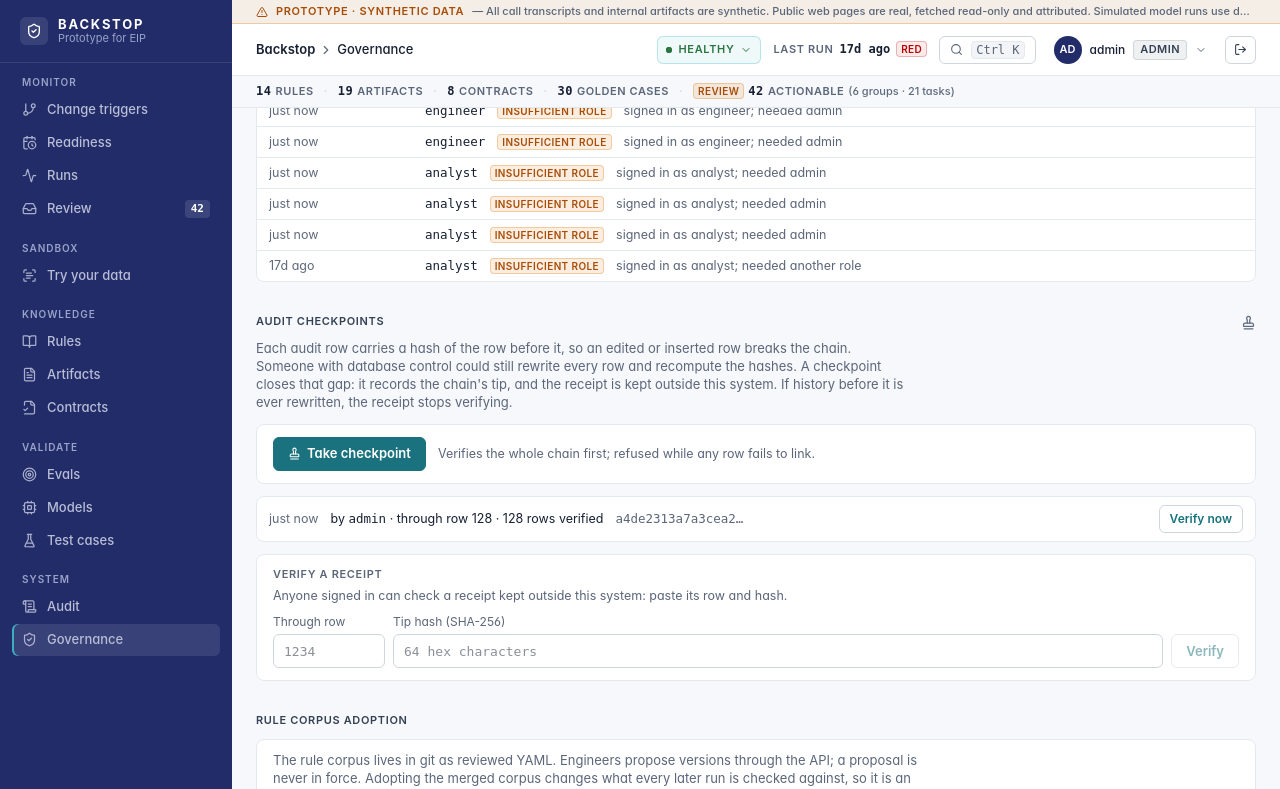
Test: governance (admin) › lets an admin review access and take a checkpoint
(page scrolled)
Click the button "Take checkpoint" at (349, 454), box 273,437 -> 426,471
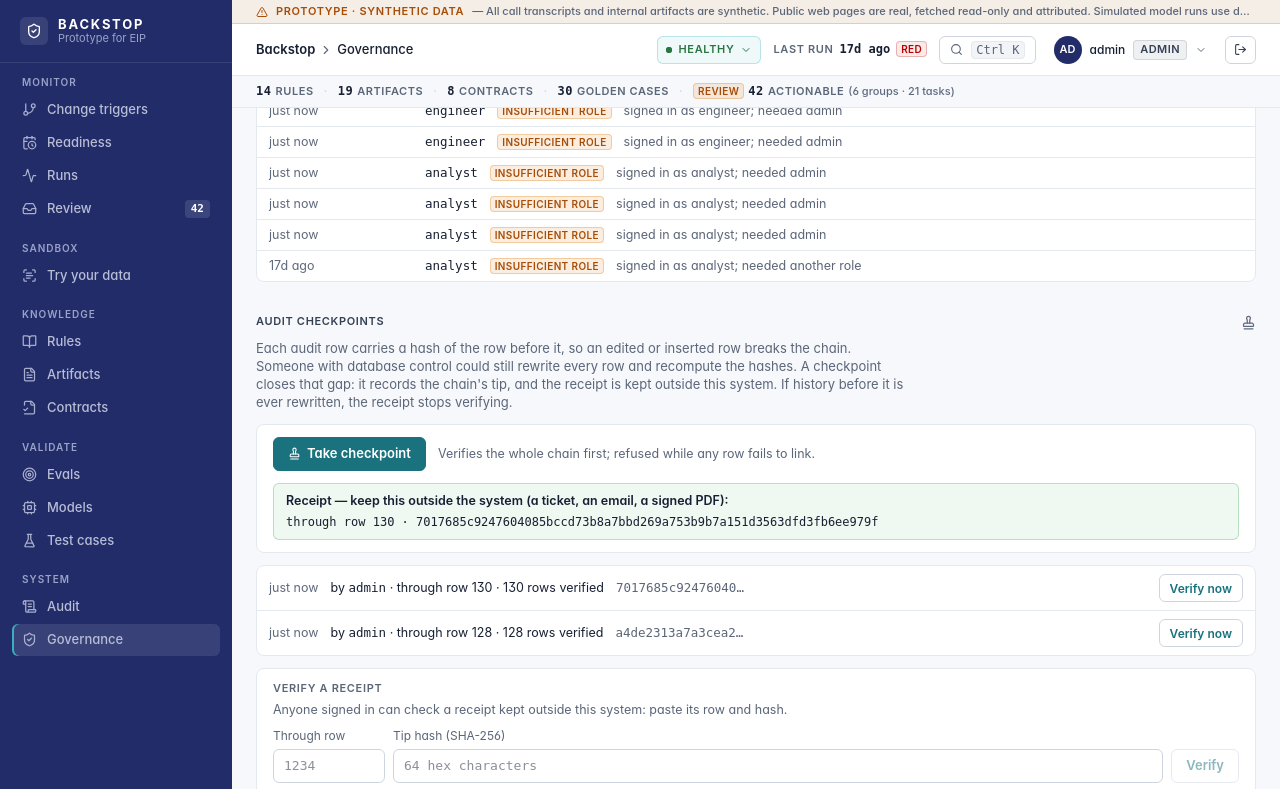
Now the text "Receipt — keep this outside the system" is shown, box 286,493 -> 729,508
